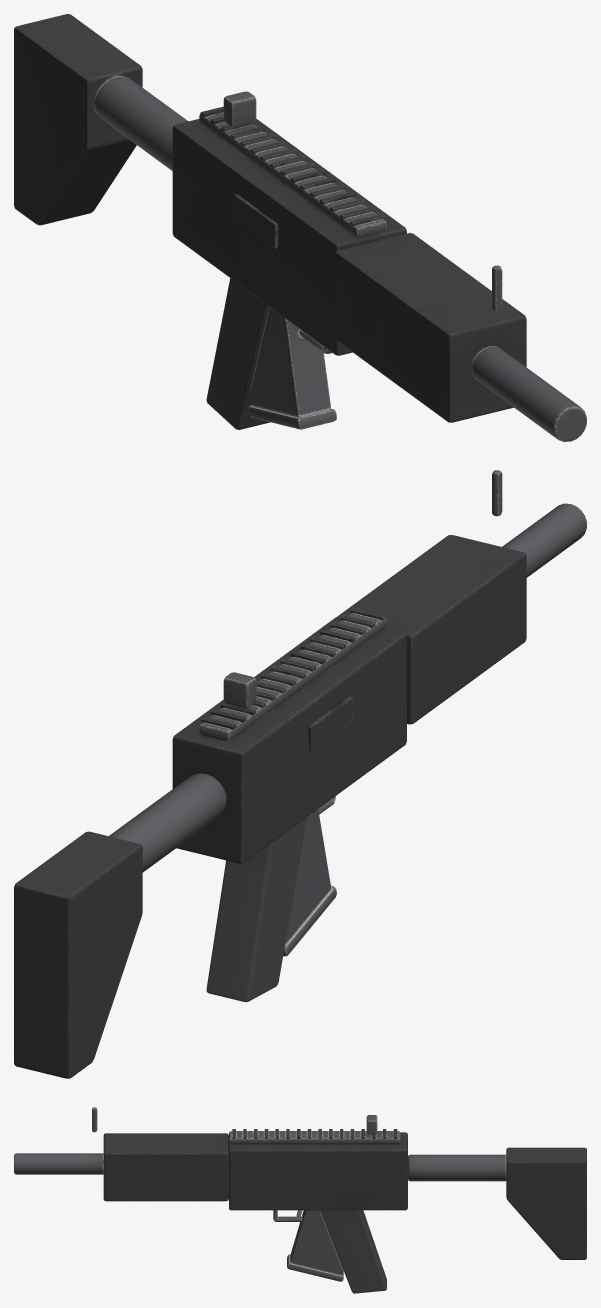
File: mag7.fbx
3 renders of one model, top to bottom at view 1: azimuth 30°, elevation 25°; view 2: azimuth 150°, elevation 25°; view 3: azimuth 270°, elevation 25°, orthographic. The views are drawn at different scales.
Parts seen in each view (by area): view 1: mag7; view 2: mag7; view 3: mag7.
Boxes of the visible parts, left/top/right/bottom form: mag7: left=14, top=14, right=586, bottom=441; mag7: left=14, top=470, right=586, bottom=1078; mag7: left=14, top=1107, right=586, bottom=1293.
Size of the model in its own units: 0.055 by 0.2232 by 0.64.
